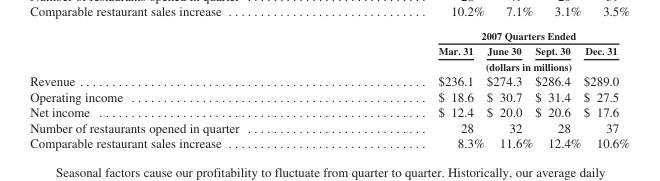table: (29, 28, 629, 149)
table column: (29, 28, 338, 149), (338, 28, 484, 149), (484, 28, 533, 149), (533, 28, 581, 149), (581, 28, 629, 149)
table column header: (29, 28, 629, 72)
table row: (29, 42, 629, 58), (29, 72, 629, 88), (29, 103, 629, 119), (29, 88, 629, 103), (29, 119, 629, 134), (29, 134, 629, 149), (29, 28, 629, 42), (29, 58, 629, 72)
table spanning cell: (338, 28, 629, 42), (338, 58, 629, 72)
